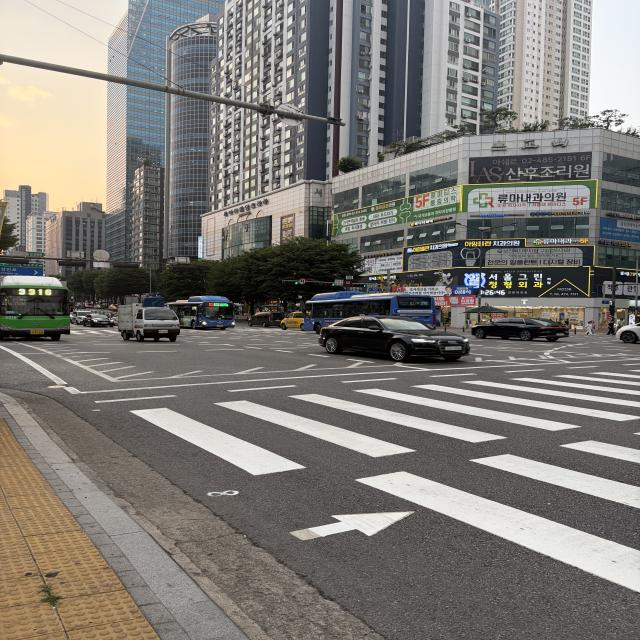car: (315, 308, 479, 377), (0, 272, 81, 352), (98, 283, 192, 347), (464, 308, 576, 351)
